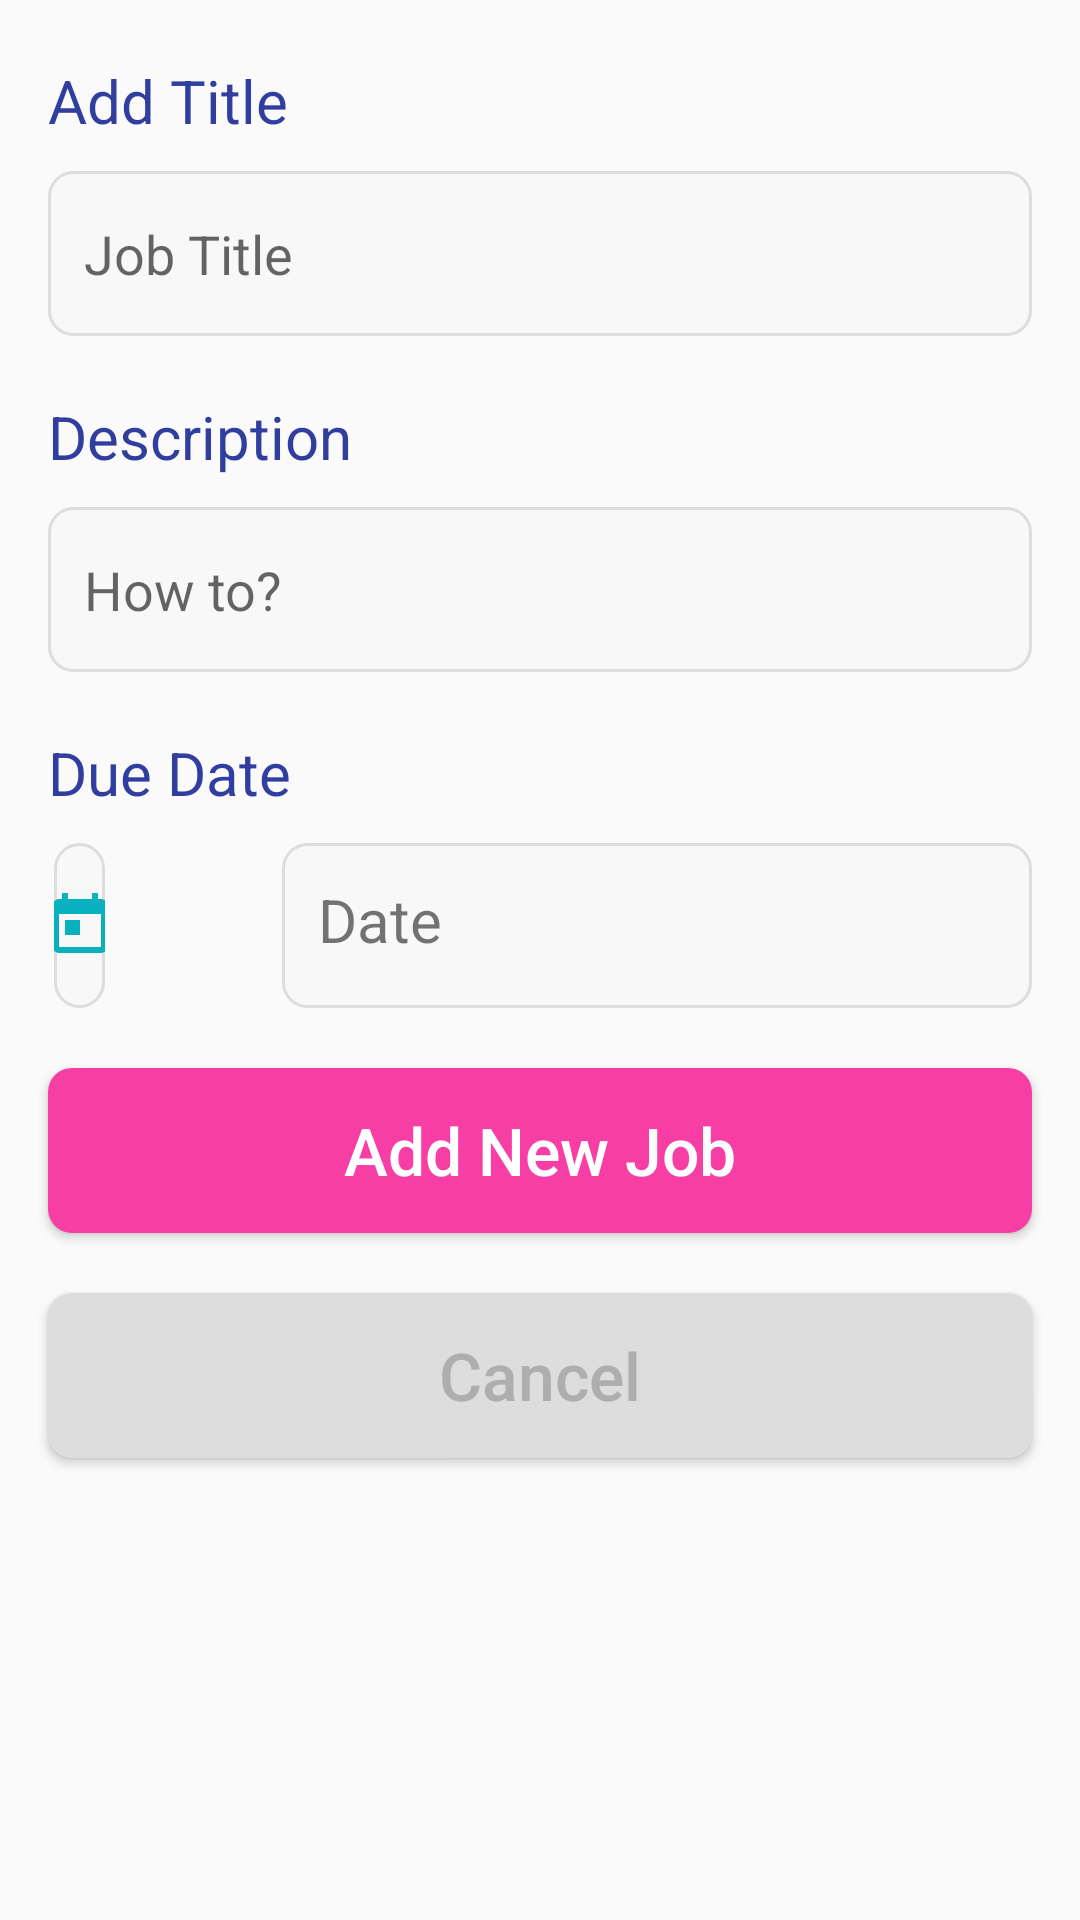

Named icons in this screenshot (1080 x 1920) and their bounding boxes, [x1=x1, y1=y1, x2=x2, y2=y2]:
today: [x1=54, y1=843, x2=105, y2=1008]
